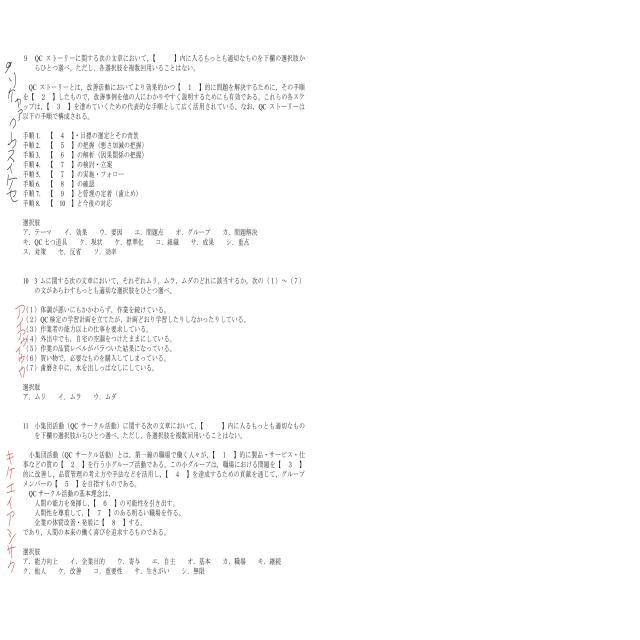衛生紙: (128, 119, 306, 364)
